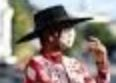with_facemask: (59, 30, 80, 52)
